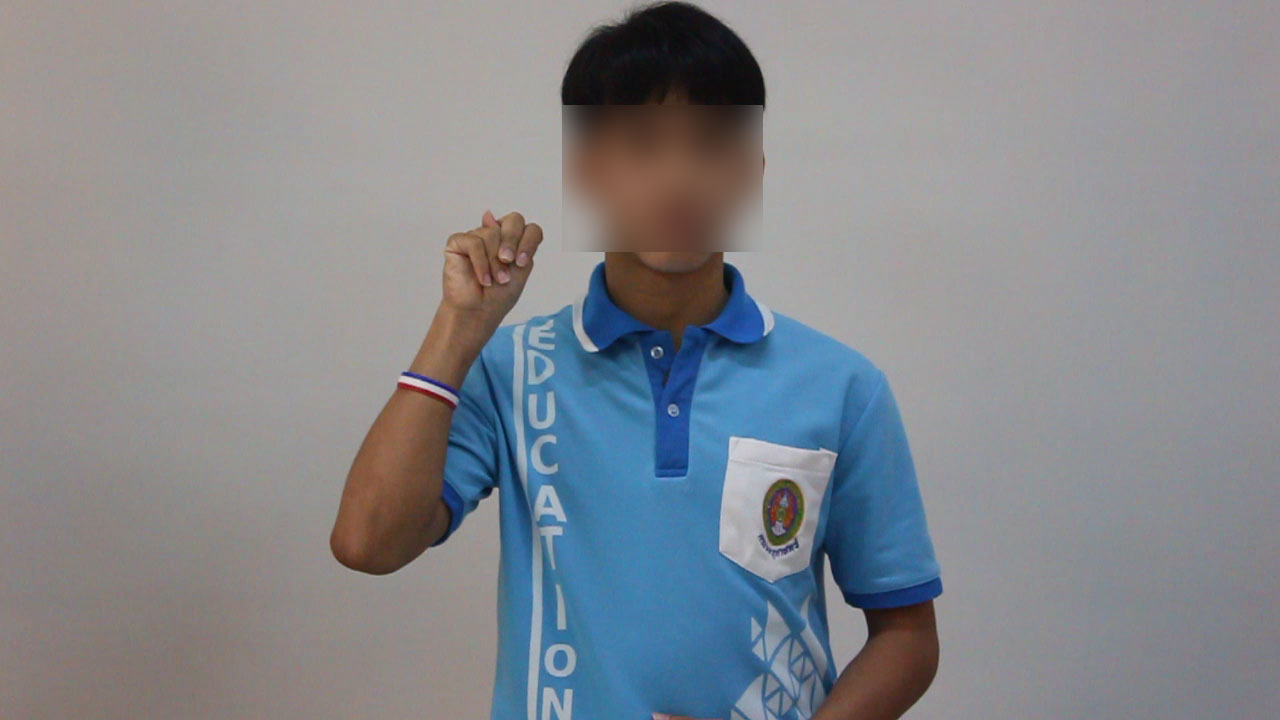nor: (416, 207, 559, 317)
